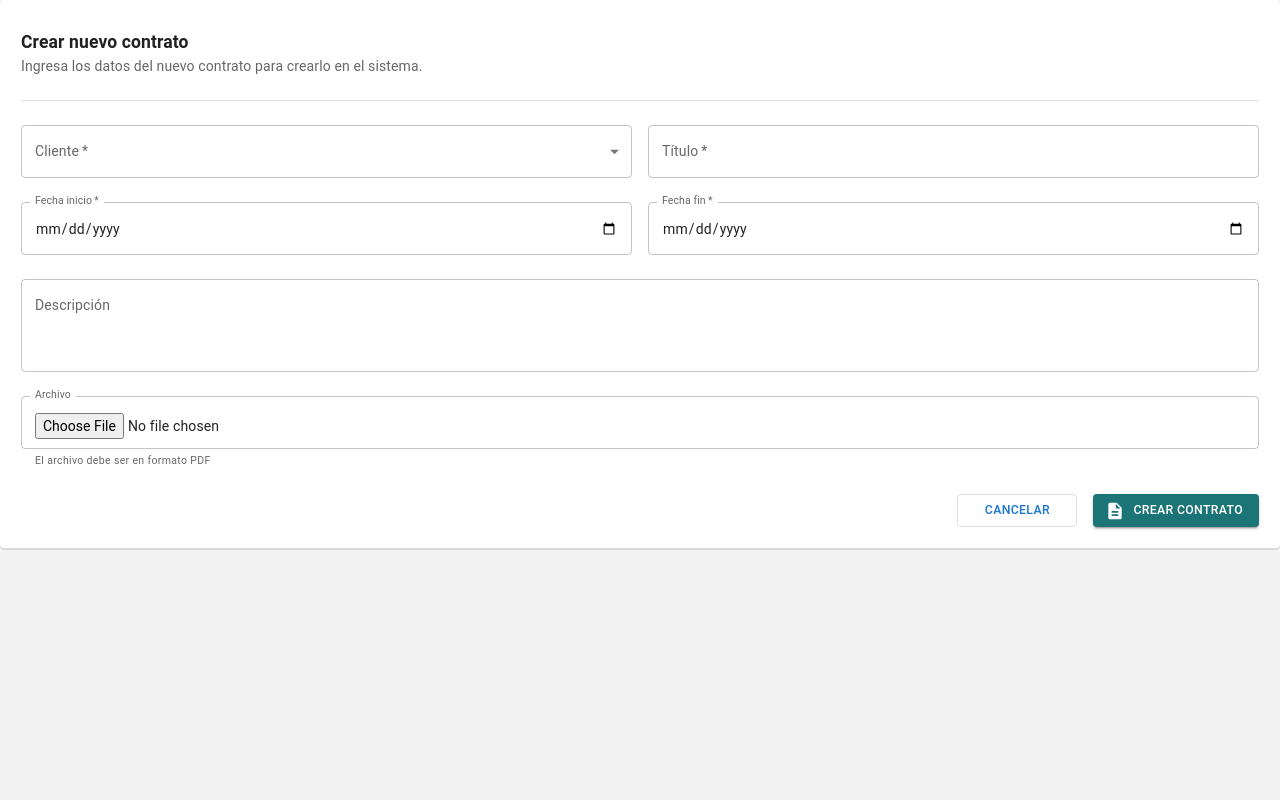
it: ContratoForm › renders client selector with loaded clients
This screenshot has width=1280, height=800.
Press the mouse on the dropdown at (326, 152), box [21,125,632,178]
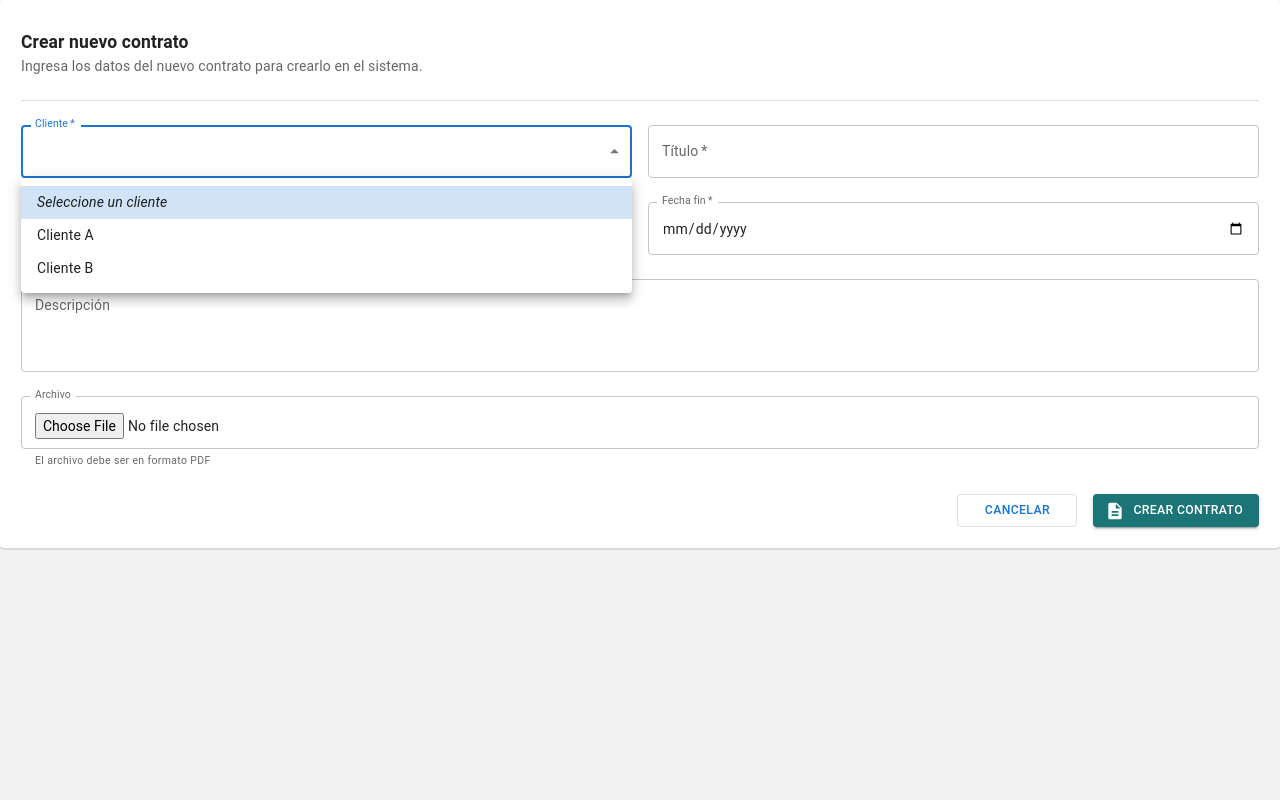
Result: the option "Cliente A" is shown at [37,227,94,243]
Result: the option "Cliente B" is shown at [37,260,94,276]
